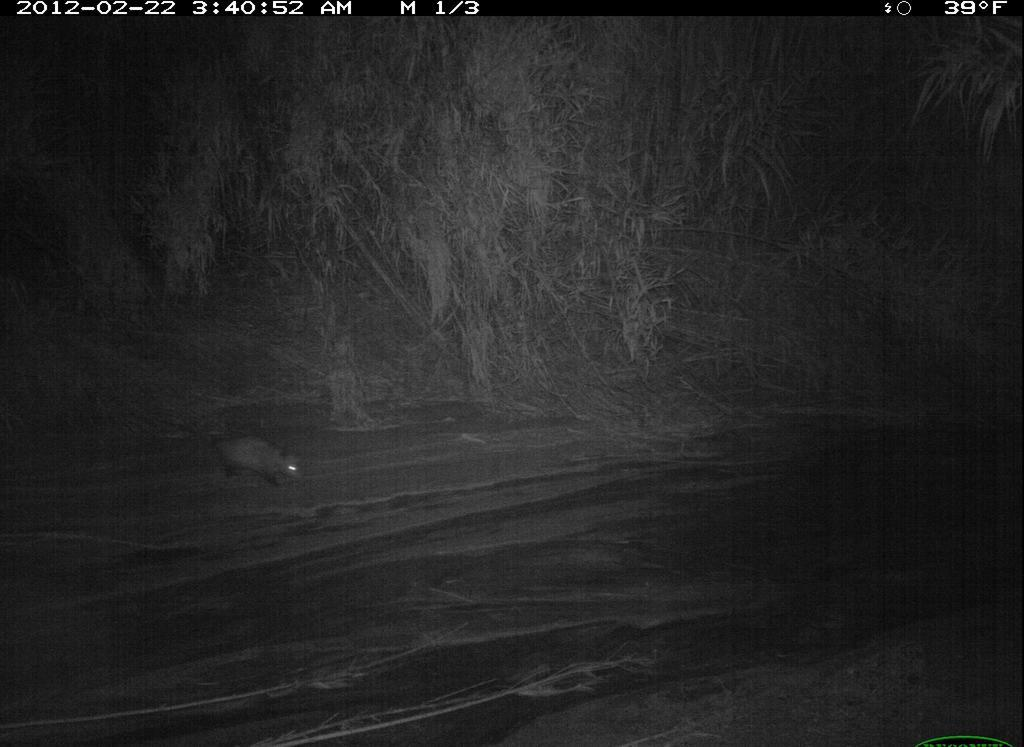opossum: (189, 418, 313, 489)
